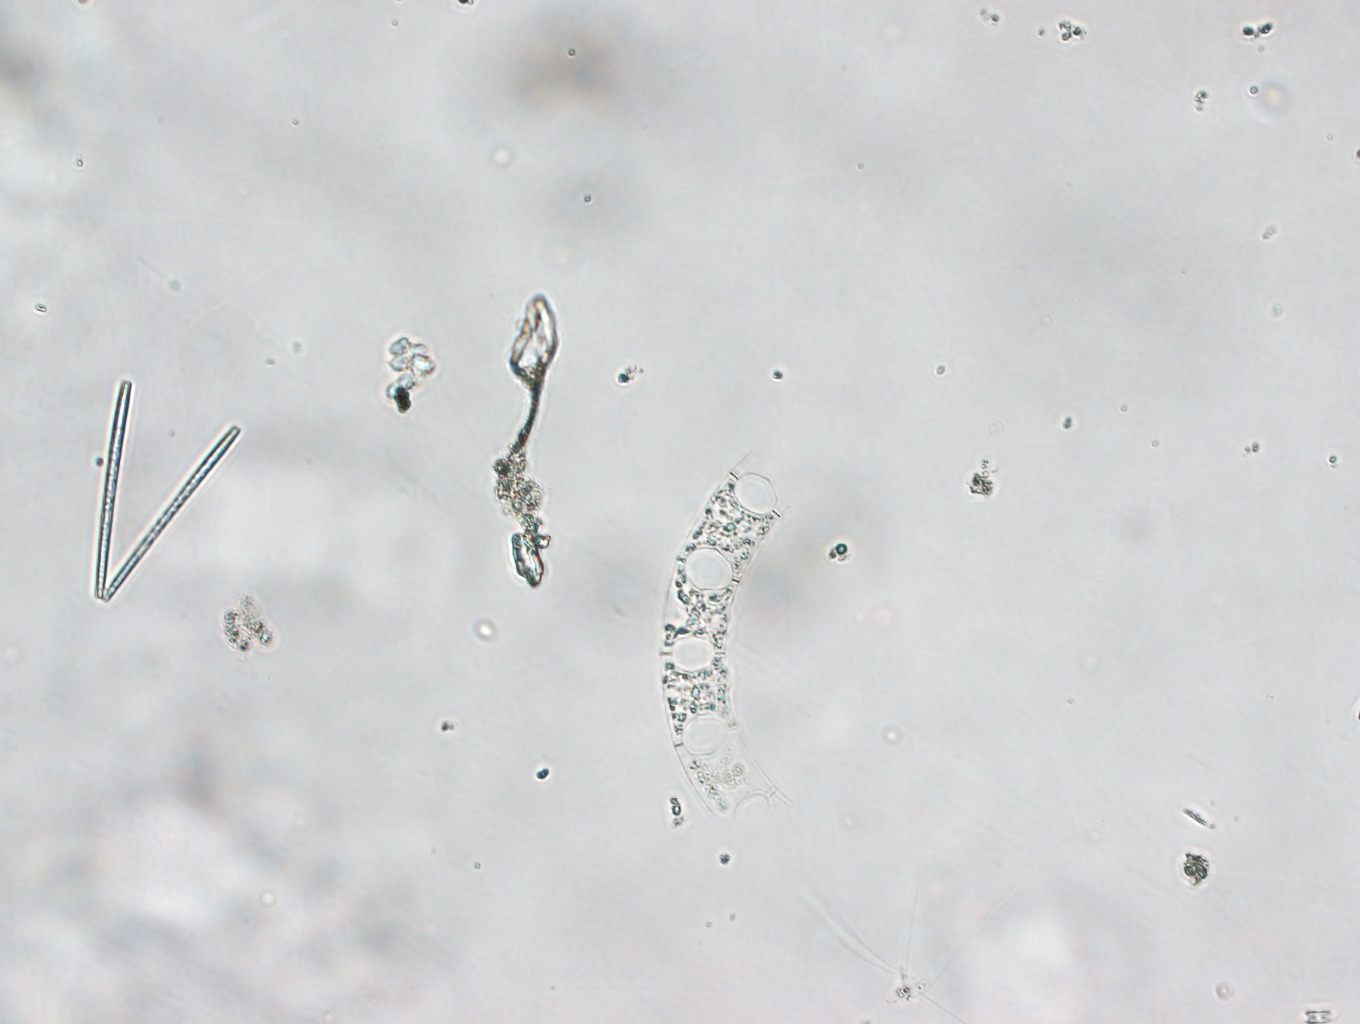eucampia: (646, 439, 808, 827)
thalassionema nitzschioides: (66, 369, 244, 609)
